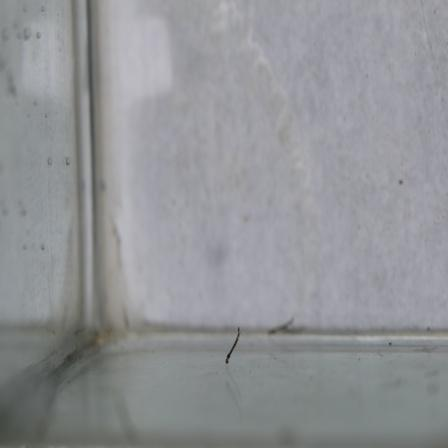Jentik-Nyamuk: (218, 324, 243, 367)
